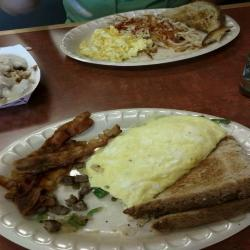bread: (141, 134, 250, 228), (163, 1, 226, 52)
omelette: (93, 114, 224, 204), (82, 26, 156, 62)
